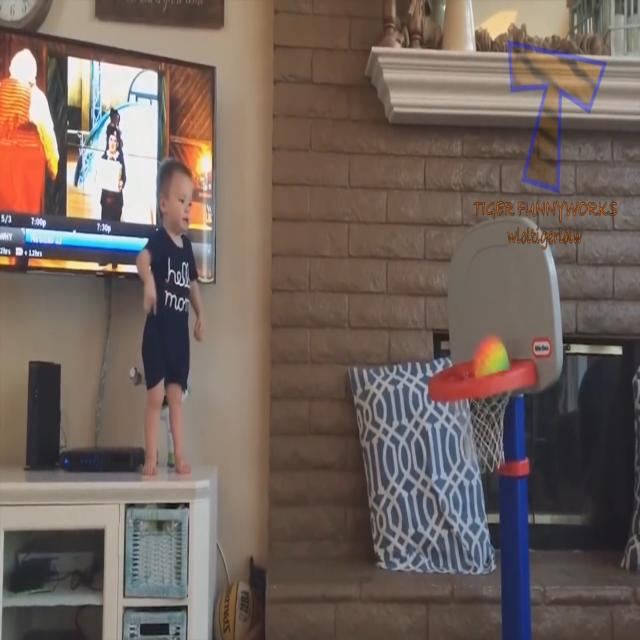dangerous: (131, 140, 213, 634)
